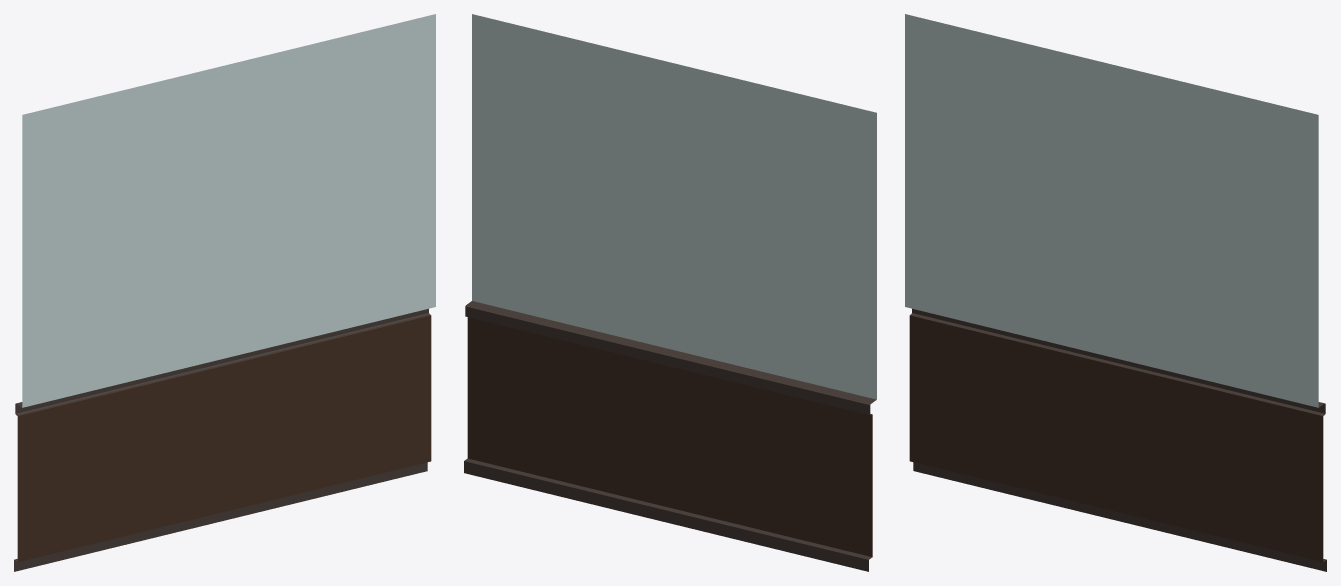
File: SM_Corridor_End.fbx
3 renders of one model, left to right at view 1: azimuth 30°, elevation 25°; view 2: azimuth 150°, elevation 25°; view 3: azimuth 330°, elevation 25°, orthographic. The views are drawn at different scales.
Visible parts, largest first — view 1: corridor_end3; view 2: corridor_end3; view 3: corridor_end3.
Boxes of the visible parts, x1,y1,x2,y2 form: corridor_end3: [14, 14, 435, 571]; corridor_end3: [464, 14, 876, 571]; corridor_end3: [905, 14, 1326, 571].
Bounding box in the file's own units: 5.61 × 6 × 0.1917.
